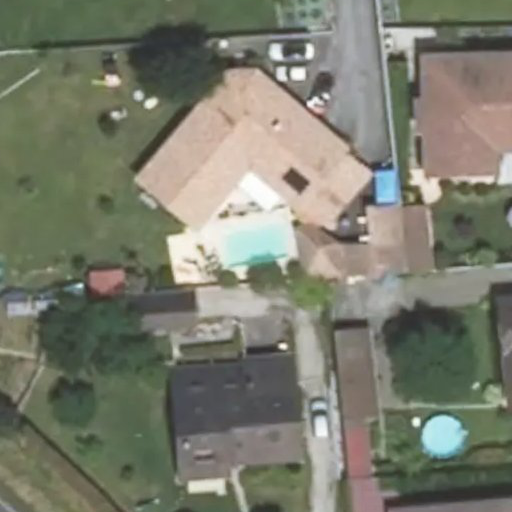pool: (217, 222, 289, 262), (419, 414, 469, 461)
